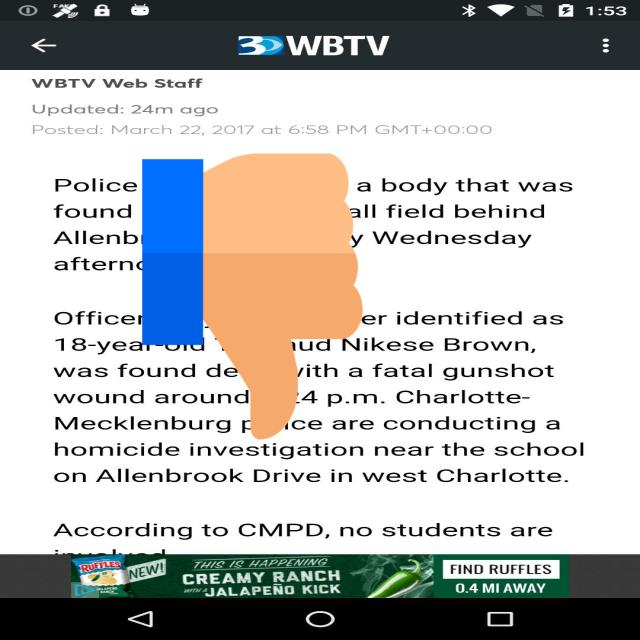obstruction: (142, 146, 363, 447)
